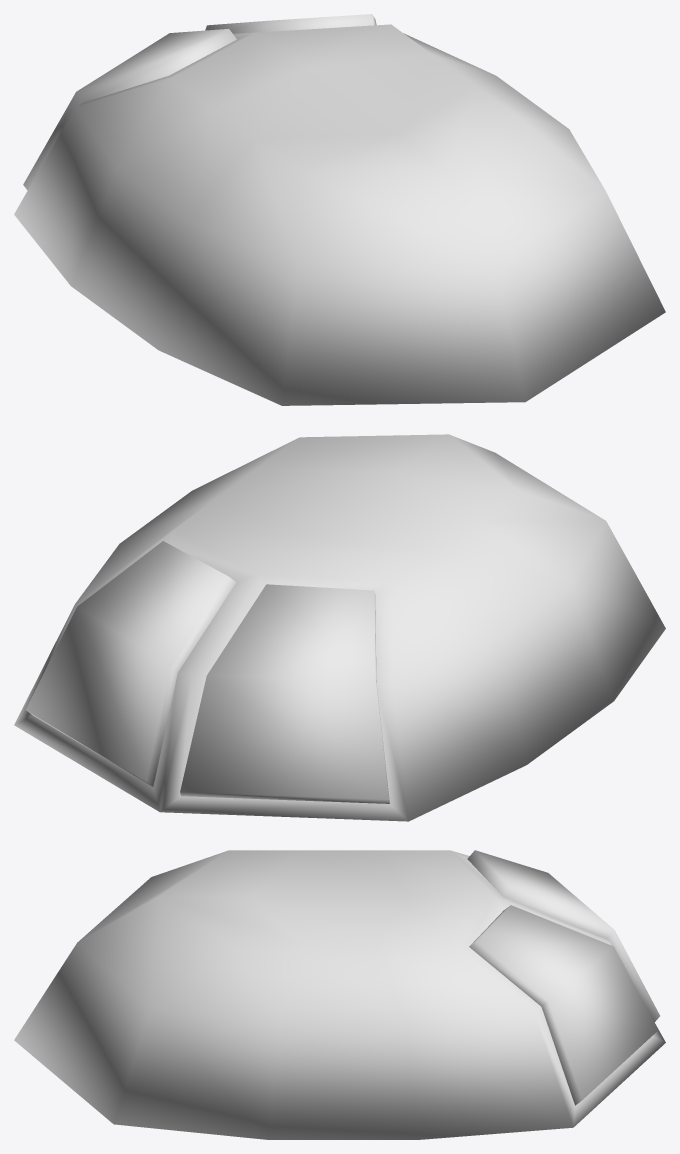
Rendered from Mouse.fbx.
The picture shows the model from 3 angles, top to bottom: view 1: azimuth 30°, elevation 25°; view 2: azimuth 150°, elevation 25°; view 3: azimuth 270°, elevation 25°; orthographic projection. The views are drawn at different scales.
Parts seen in each view (by area): view 1: Mouse; view 2: Mouse; view 3: Mouse.
Part boxes in pixels (<box>): Mouse: <box>14,14,665,405</box>; Mouse: <box>14,434,665,821</box>; Mouse: <box>14,850,665,1139</box>.
Bounding box in the file's own units: 6.4 × 2.26 × 9.08.
1 material, 1 textured.
